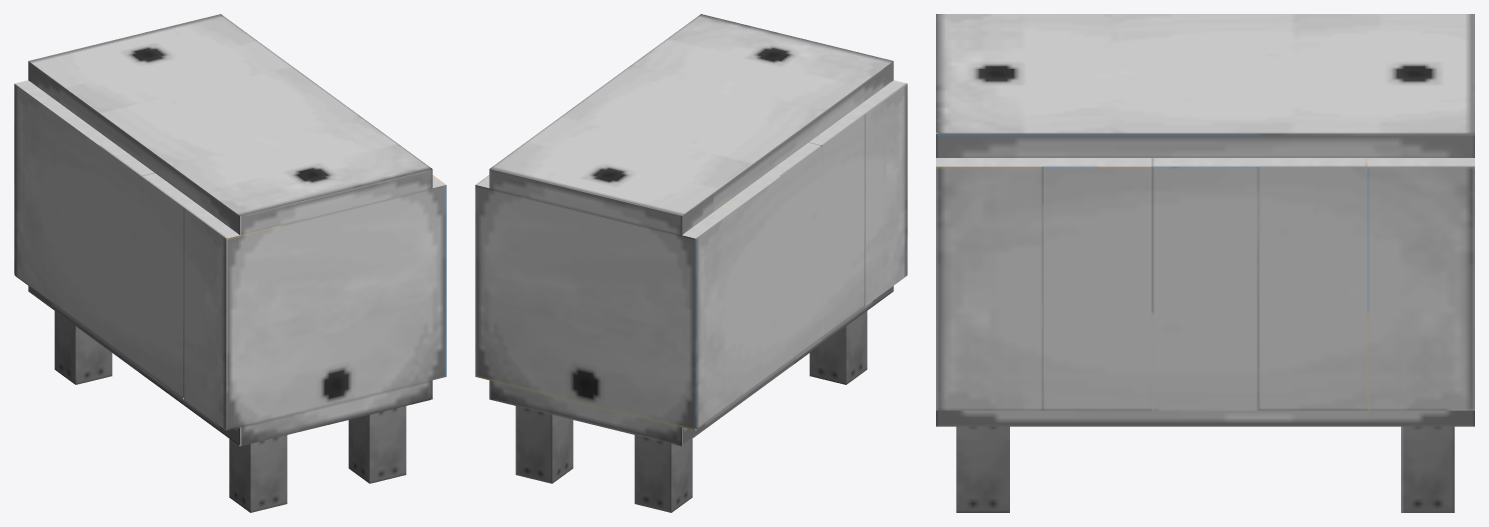
Rendered from fluid_tank.obj.
3 views of the same model, side by side, from view 1: azimuth 30°, elevation 25°; view 2: azimuth 150°, elevation 25°; view 3: azimuth 270°, elevation 25° (orthographic). The views are drawn at different scales.
Parts seen in each view (by area): view 1: 10, 5, 4, 8, 7, 9, 6, 2, 3, 11; view 2: 4, 5, 10, 8, 7, 9, 6, 11, 1, 2; view 3: 5, 7, 8, 9, 10, 4, 6, 1, 3.
Part boxes in pixels (bbox=[...]): 10: bbox=[184, 175, 446, 430]; 5: bbox=[28, 14, 432, 235]; 4: bbox=[14, 80, 70, 306]; 8: bbox=[99, 142, 154, 368]; 7: bbox=[57, 111, 141, 337]; 9: bbox=[141, 173, 197, 399]; 6: bbox=[28, 286, 432, 446]; 2: bbox=[229, 435, 287, 512]; 3: bbox=[348, 406, 406, 483]; 11: bbox=[54, 311, 112, 384]; 4: bbox=[475, 175, 737, 430]; 5: bbox=[489, 14, 893, 235]; 10: bbox=[851, 80, 907, 306]; 8: bbox=[767, 142, 822, 368]; 7: bbox=[724, 173, 780, 399]; 9: bbox=[809, 111, 864, 337]; 6: bbox=[489, 286, 893, 446]; 11: bbox=[634, 435, 692, 512]; 1: bbox=[515, 406, 573, 483]; 2: bbox=[809, 311, 867, 384]; 5: bbox=[936, 14, 1474, 157]; 7: bbox=[1259, 158, 1367, 410]; 8: bbox=[1151, 158, 1259, 410]; 9: bbox=[1043, 158, 1151, 410]; 10: bbox=[936, 132, 1043, 410]; 4: bbox=[1367, 158, 1474, 410]; 6: bbox=[936, 410, 1474, 426]; 1: bbox=[1401, 426, 1454, 512]; 3: bbox=[956, 426, 1009, 512].
Bounding box in the file's own units: 3 × 4 × 5.
